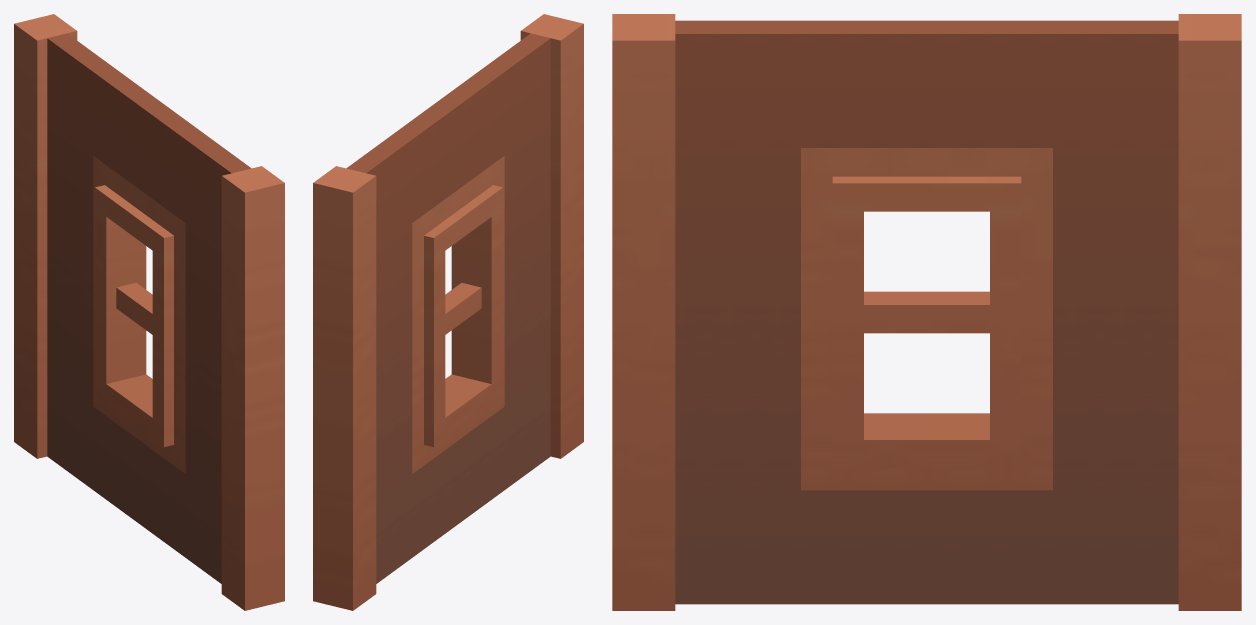
Rendered from wallWoodWindowGlass.fbx.
3 renders of one model, left to right at view 1: azimuth 30°, elevation 25°; view 2: azimuth 150°, elevation 25°; view 3: azimuth 270°, elevation 25°, orthographic. The views are drawn at different scales.
Visible parts, largest first — view 1: wallWoodWindowGlass; view 2: wallWoodWindowGlass; view 3: wallWoodWindowGlass.
Part boxes in pixels (x1=…): wallWoodWindowGlass: x1=14, y1=14, x2=284, y2=610; wallWoodWindowGlass: x1=313, y1=14, x2=583, y2=610; wallWoodWindowGlass: x1=612, y1=14, x2=1241, y2=610.
Bounding box in the file's own units: 0.1 × 1 × 1.
